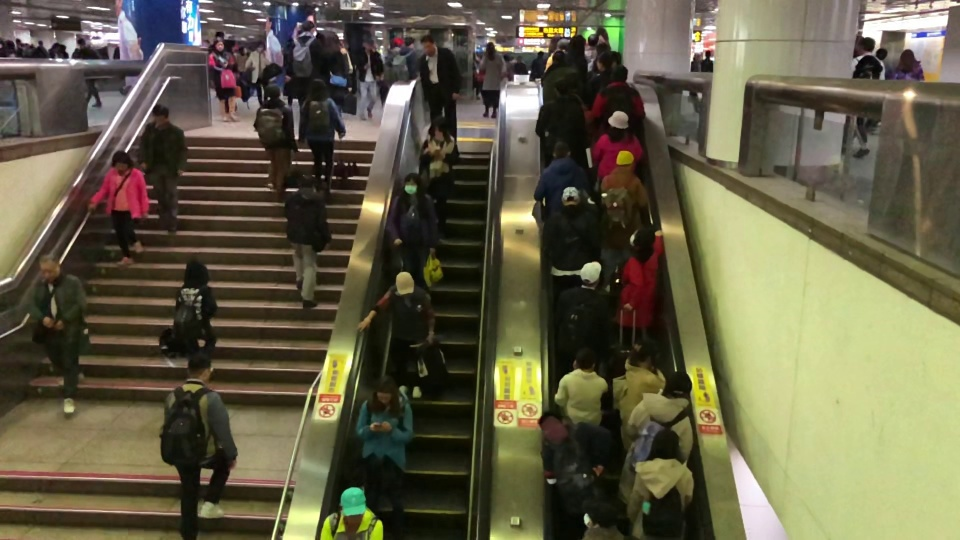person_head: (340, 485, 367, 527), (648, 428, 679, 459), (583, 498, 615, 528), (185, 352, 213, 384), (663, 369, 694, 397), (636, 337, 663, 368), (374, 374, 397, 406), (537, 411, 564, 438), (185, 259, 211, 287), (37, 249, 59, 282), (629, 226, 656, 250), (579, 260, 603, 286), (573, 347, 596, 371), (607, 110, 629, 135), (394, 270, 414, 296), (110, 150, 132, 173), (403, 172, 423, 196), (429, 116, 448, 140), (595, 51, 615, 72), (560, 186, 580, 205), (551, 78, 570, 97), (615, 148, 634, 167), (151, 103, 169, 123), (898, 48, 916, 68), (552, 140, 570, 159), (309, 78, 326, 98), (420, 34, 435, 55), (611, 64, 629, 81), (858, 36, 875, 54), (264, 82, 281, 99), (296, 173, 314, 189), (551, 52, 570, 67), (321, 31, 337, 48), (569, 36, 584, 52), (300, 20, 315, 34), (556, 37, 569, 50), (587, 33, 598, 47), (390, 37, 403, 48), (255, 40, 265, 54), (363, 37, 373, 50), (215, 38, 225, 50), (404, 36, 414, 48), (487, 41, 495, 54), (76, 38, 85, 48), (51, 42, 59, 51), (537, 49, 544, 59), (704, 49, 710, 59), (37, 40, 42, 46), (516, 56, 521, 62)
person_vbox: (157, 352, 239, 540), (21, 249, 90, 412), (618, 369, 695, 504), (357, 270, 435, 398), (353, 376, 413, 535), (626, 428, 695, 539), (87, 149, 150, 269), (537, 410, 609, 506), (600, 149, 650, 287), (137, 103, 189, 235), (284, 172, 332, 309), (612, 337, 665, 451), (387, 172, 438, 287), (542, 187, 599, 287), (251, 82, 296, 207), (612, 225, 663, 335), (555, 261, 614, 350), (301, 78, 346, 193), (417, 34, 461, 143), (174, 258, 219, 361), (553, 346, 609, 428), (581, 65, 645, 135), (420, 115, 461, 224), (285, 20, 321, 143), (852, 36, 886, 158), (533, 140, 589, 214), (588, 110, 643, 181), (533, 78, 586, 150), (320, 485, 384, 540), (320, 30, 353, 114), (208, 38, 239, 123), (357, 37, 384, 122), (478, 42, 506, 119), (540, 52, 581, 103), (76, 39, 103, 108), (245, 40, 272, 107), (587, 50, 617, 99), (886, 48, 924, 82), (392, 36, 418, 80), (544, 37, 570, 72), (585, 35, 599, 69), (531, 50, 546, 75), (700, 49, 713, 73), (515, 56, 527, 75), (50, 42, 63, 58), (37, 41, 47, 59)
